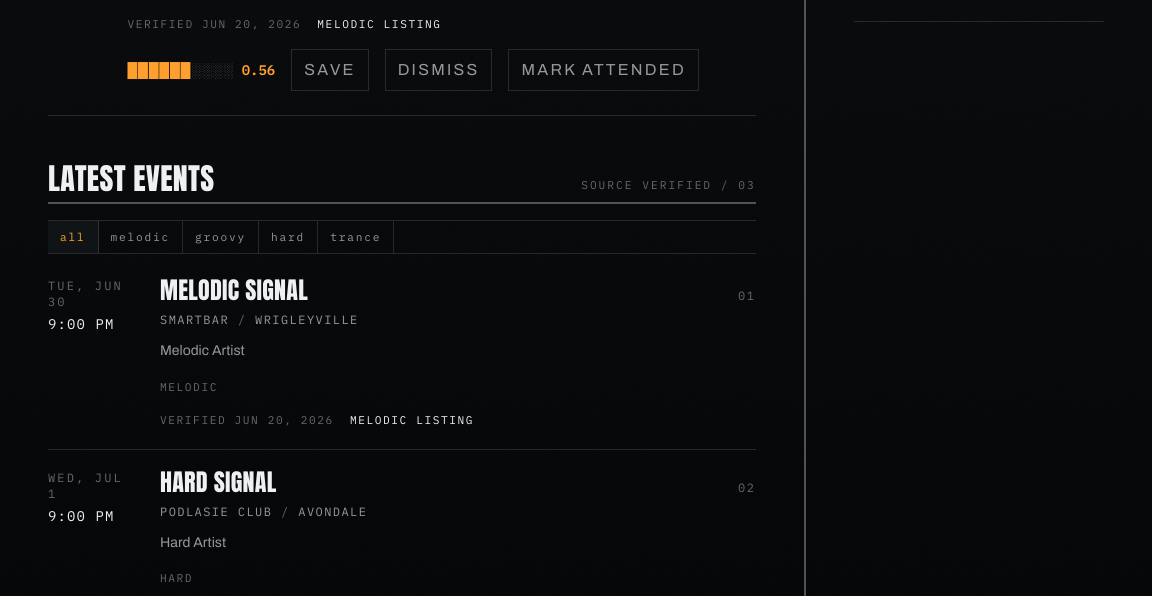
Test: DashboardShell › filters events and the featured artist by canonical techno sub-genre
(page scrolled)
Expected: the heading "Melodic Signal" below "Latest Events" is shown, left=160, top=278, right=308, bottom=302
Expected: the button "groovy" is shown, left=183, top=220, right=259, bottom=253
Click the button "melodic": click(141, 237) left=98, top=220, right=183, bottom=253
(page scrolled)
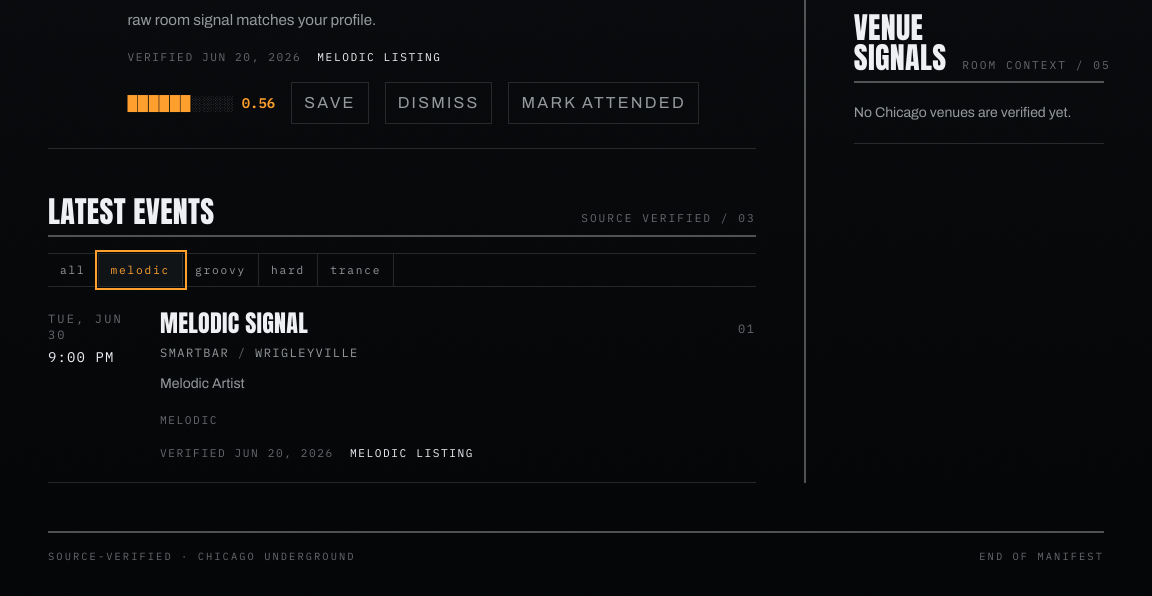
Expected: the heading "Melodic Signal" below "Latest Events" is shown, left=160, top=311, right=308, bottom=335
Expected: the heading "hard signal" is not shown
Click the button "hard": click(289, 270) left=259, top=254, right=318, bottom=286
(page scrolled)
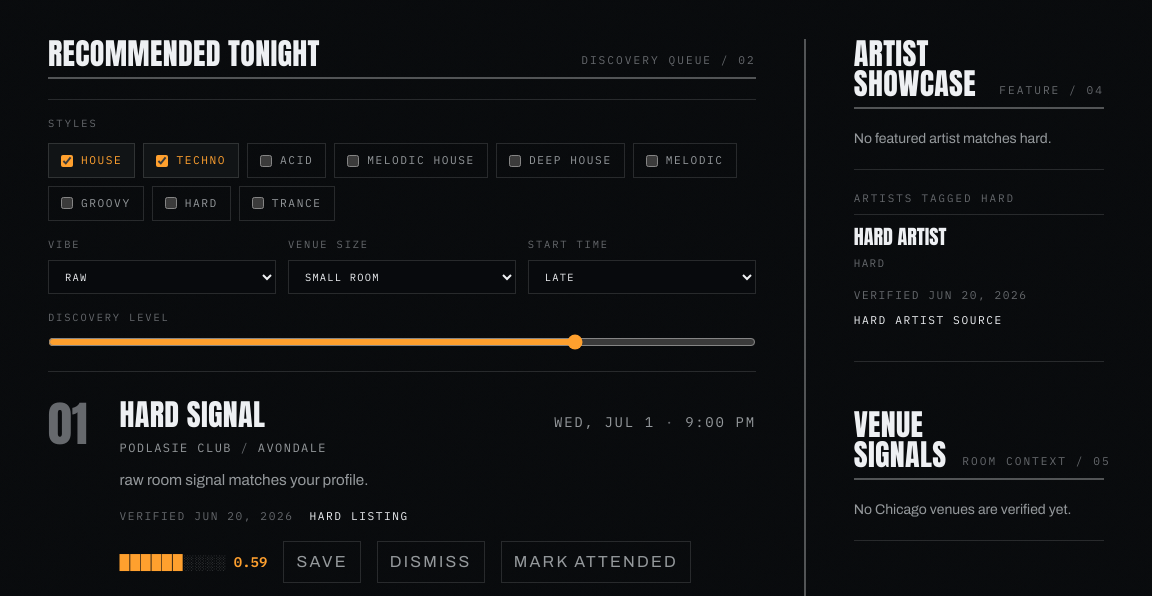
Result: the text "Melodic Artist" is gone
Result: the element "Artist Showcase" shows "No featured artist matches hard" at left=854, top=38, right=1104, bottom=362
Result: the heading "Hard Artist" is shown at left=854, top=221, right=946, bottom=252
